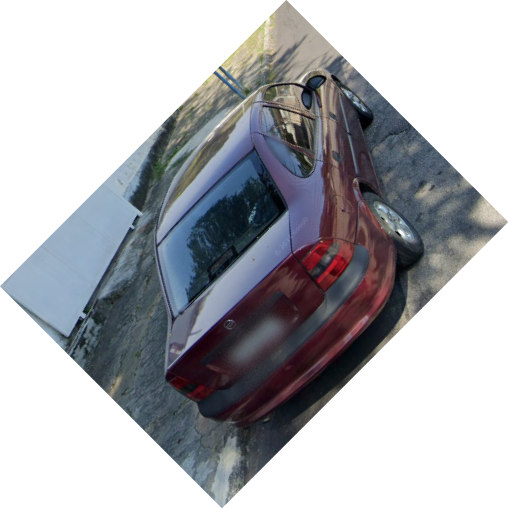car: (152, 69, 424, 428)
